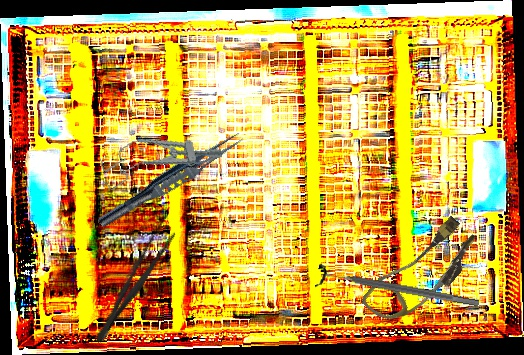Cannula: (359, 206, 485, 339)
Dressing Forceps: (88, 212, 182, 349)
Fixation Ring: (314, 261, 482, 317)
Speculum: (95, 123, 225, 192)
Tissue Forceps: (95, 125, 247, 235)
